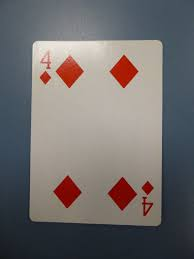four of diamonds: (29, 40, 164, 226)
